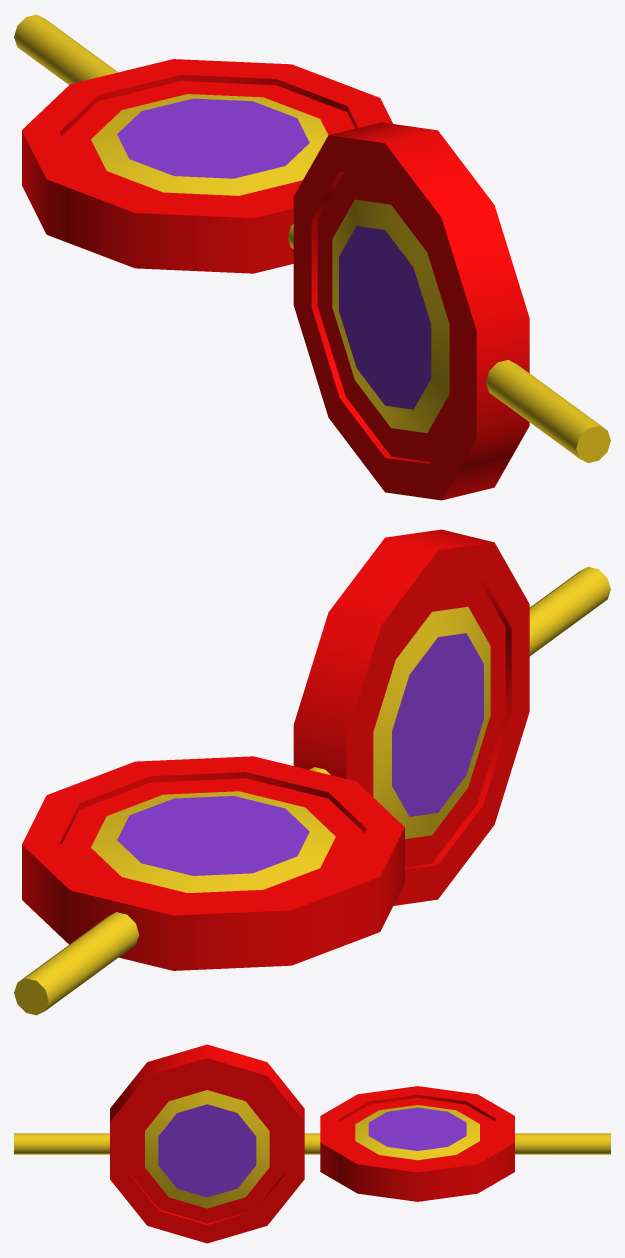
File: tuzak 4.fbx
The picture shows the model from 3 angles, top to bottom: view 1: azimuth 30°, elevation 25°; view 2: azimuth 150°, elevation 25°; view 3: azimuth 270°, elevation 25°; orthographic projection. The views are drawn at different scales.
Parts seen in each view (by area): view 1: polySurface15, polySurface16, pCylinder7; view 2: polySurface16, polySurface15, pCylinder7; view 3: polySurface15, polySurface16, pCylinder7.
Part boxes in pixels (box(x1,y1,x2,y2)): polySurface15: box(293, 122, 529, 500); polySurface16: box(22, 59, 392, 273); pCylinder7: box(14, 14, 610, 463); polySurface16: box(22, 756, 404, 970); polySurface15: box(293, 529, 529, 905); pCylinder7: box(14, 566, 610, 1015); polySurface15: box(110, 1044, 304, 1243); polySurface16: box(320, 1086, 514, 1201); pCylinder7: box(14, 1133, 610, 1154).
Size of the model in its own units: 2 by 2 by 5.84.
